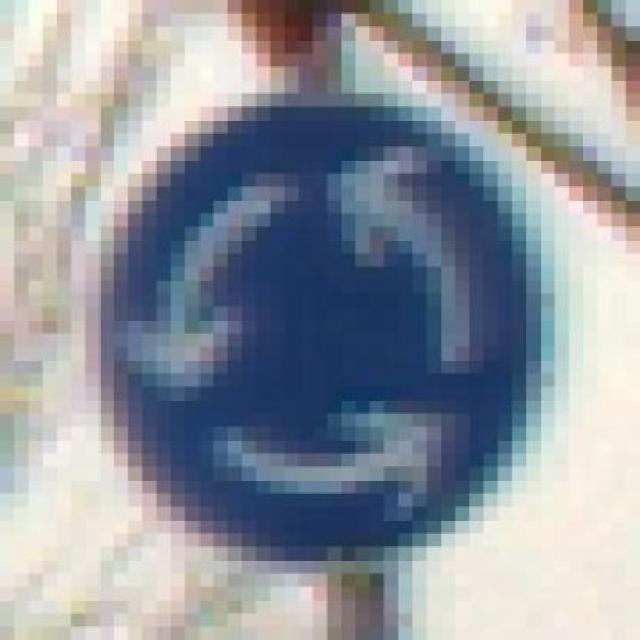Round-About: (42, 79, 598, 587)
